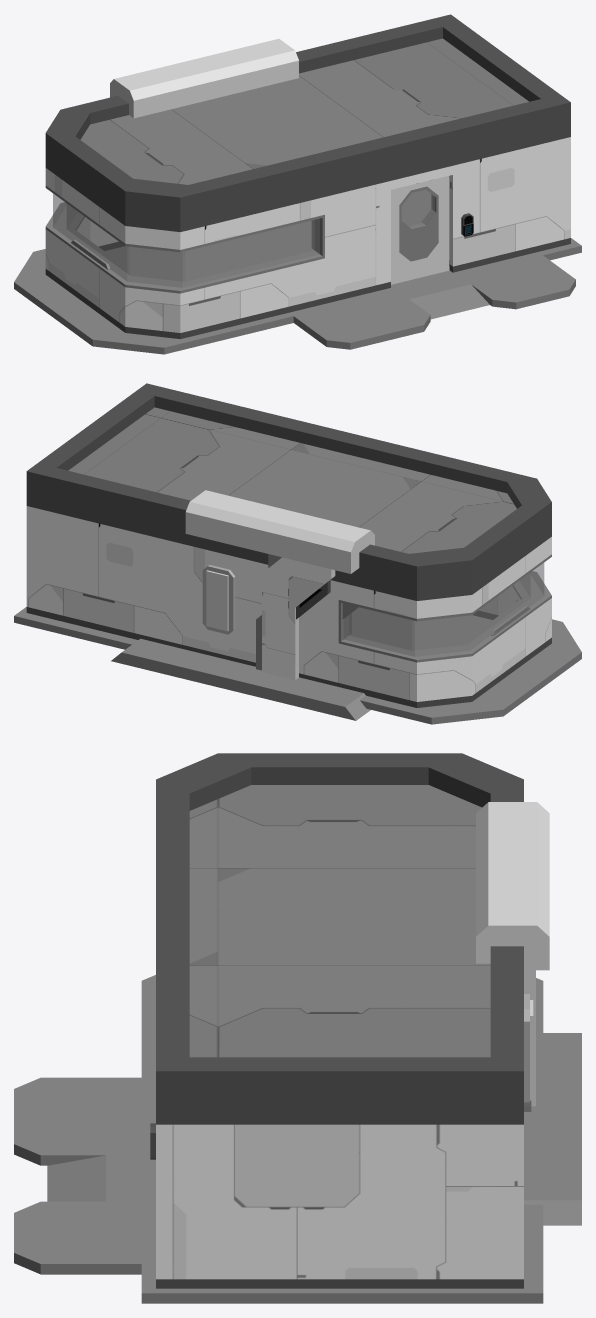
Rendered from SM_Building_7.fbx.
3 renders of one model, top to bottom at view 1: azimuth 30°, elevation 25°; view 2: azimuth 150°, elevation 25°; view 3: azimuth 270°, elevation 25°, orthographic. The views are drawn at different scales.
Visible parts, largest first — view 1: SM_Building_7, SM_Building_7_Roof, SM_Building_7_Floor, SM_Building_7_Door; view 2: SM_Building_7, SM_Building_7_Roof, SM_Building_7_Floor; view 3: SM_Building_7, SM_Building_7_Roof, SM_Building_7_Floor.
Boxes of the visible parts, x1=… form: SM_Building_7: x1=45, y1=14, x2=570, y2=339; SM_Building_7_Roof: x1=80, y1=38, x2=528, y2=184; SM_Building_7_Floor: x1=14, y1=189, x2=581, y2=354; SM_Building_7_Door: x1=391, y1=176, x2=449, y2=284; SM_Building_7: x1=26, y1=383, x2=551, y2=720; SM_Building_7_Roof: x1=68, y1=407, x2=516, y2=553; SM_Building_7_Floor: x1=14, y1=607, x2=581, y2=724; SM_Building_7: x1=150, y1=753, x2=581, y2=1288; SM_Building_7_Roof: x1=189, y1=785, x2=490, y2=1057; SM_Building_7_Floor: x1=14, y1=975, x2=543, y2=1303.
Size of the model in its own units: 980 by 332 by 679.
